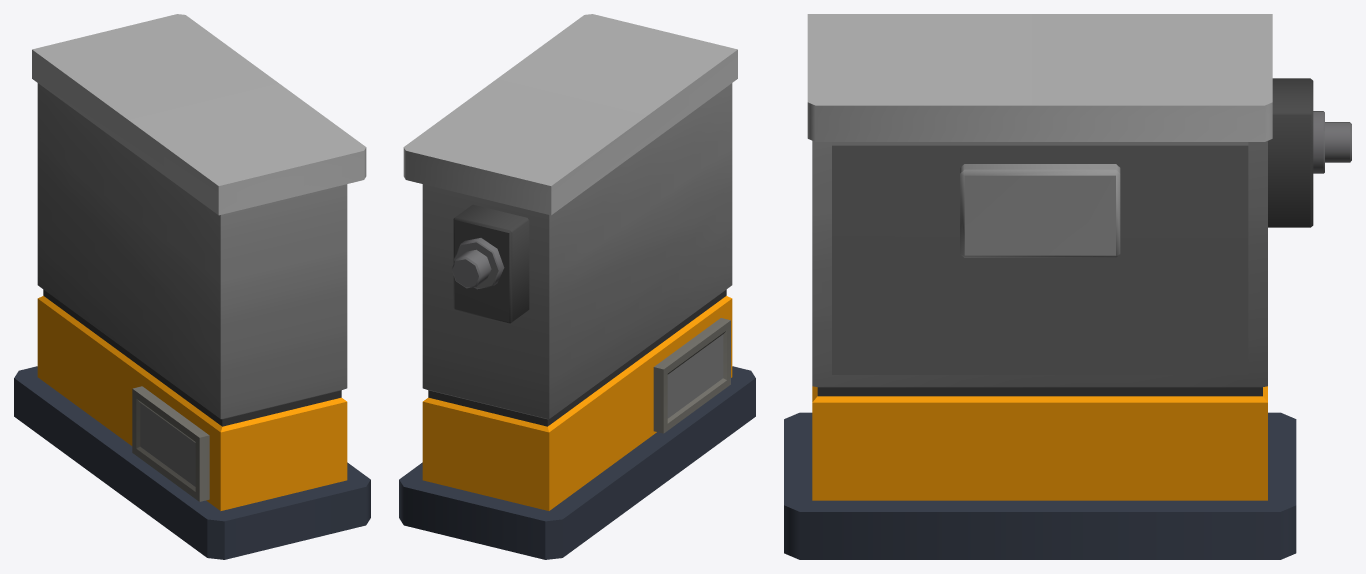
File: Prop_1_C.fbx
3 renders of one model, left to right at view 1: azimuth 30°, elevation 25°; view 2: azimuth 150°, elevation 25°; view 3: azimuth 270°, elevation 25°, orthographic. The views are drawn at different scales.
Parts seen in each view (by area): view 1: Prop_1_C; view 2: Prop_1_C; view 3: Prop_1_C.
Boxes of the visible parts, x1=… form: Prop_1_C: x1=14, y1=14, x2=370, y2=559; Prop_1_C: x1=399, y1=14, x2=755, y2=559; Prop_1_C: x1=784, y1=14, x2=1351, y2=559.
Bounding box in the file's own units: 76.56 × 161 × 182.
